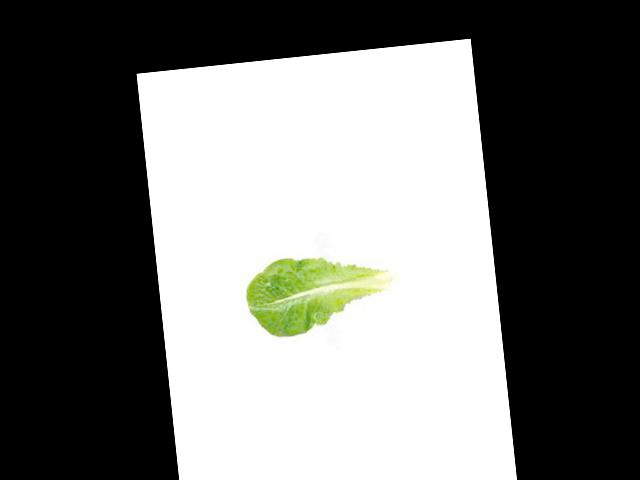lettuce: (243, 246, 402, 340)
